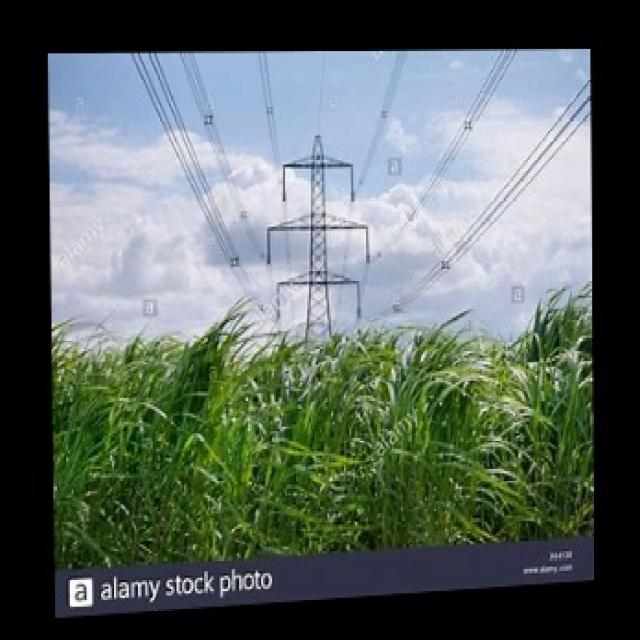utility poles: (263, 79, 379, 553)
